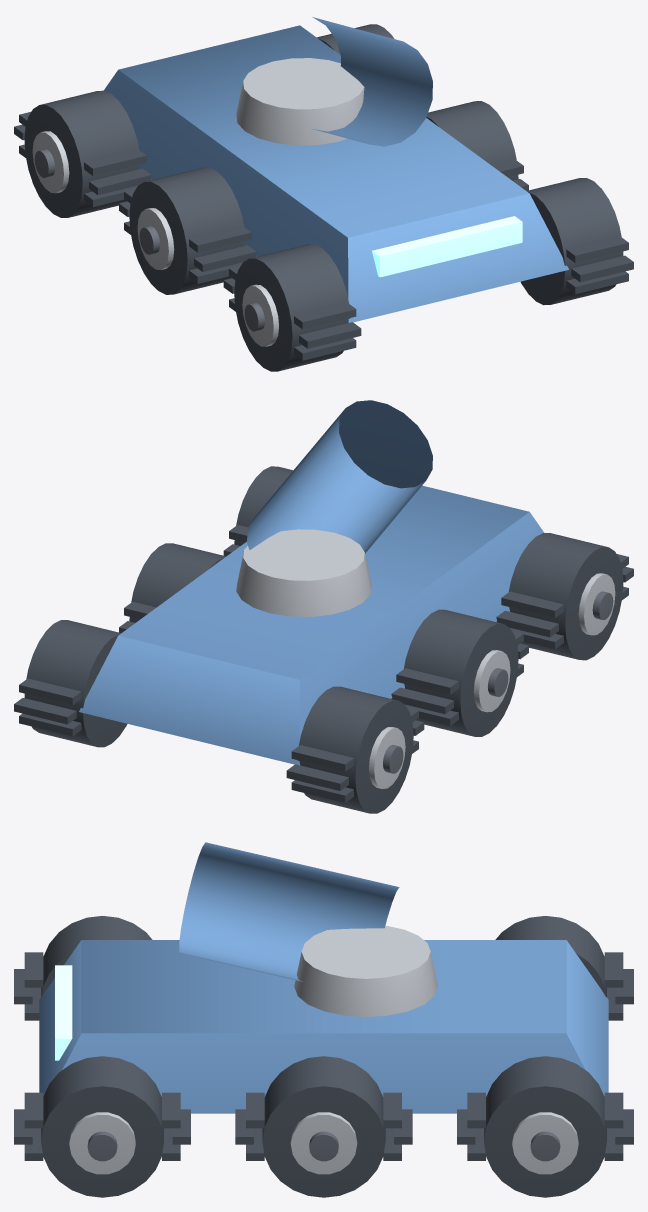
The picture shows the model from 3 angles, top to bottom: view 1: azimuth 30°, elevation 25°; view 2: azimuth 150°, elevation 25°; view 3: azimuth 270°, elevation 25°; orthographic projection. The views are drawn at different scales.
Parts seen in each view (by area): view 1: Hull, Turret; view 2: Hull, Turret; view 3: Hull, Turret.
Boxes of the visible parts, x1=… form: Hull: x1=14, y1=24, x2=633, y2=371; Turret: x1=119, y1=17, x2=529, y2=237; Hull: x1=14, y1=466, x2=633, y2=813; Turret: x1=118, y1=400, x2=529, y2=679; Hull: x1=14, y1=916, x2=633, y2=1197; Turret: x1=81, y1=842, x2=566, y2=1033.
Bounding box in the file's own units: 1.97 × 1.33 × 2.82.
